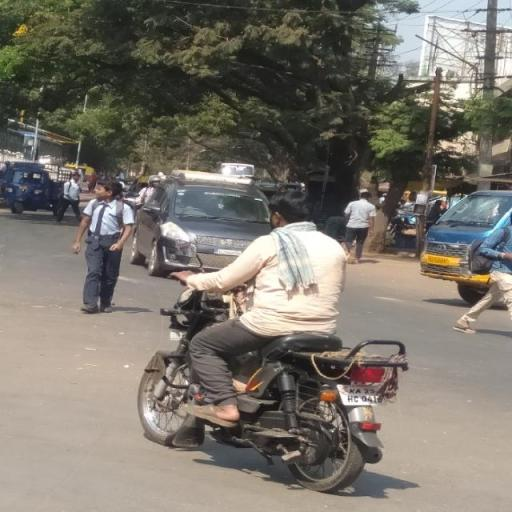bike: (120, 176, 432, 492)
numberplate: (336, 382, 388, 408)
withouthelmet: (268, 186, 310, 225)
